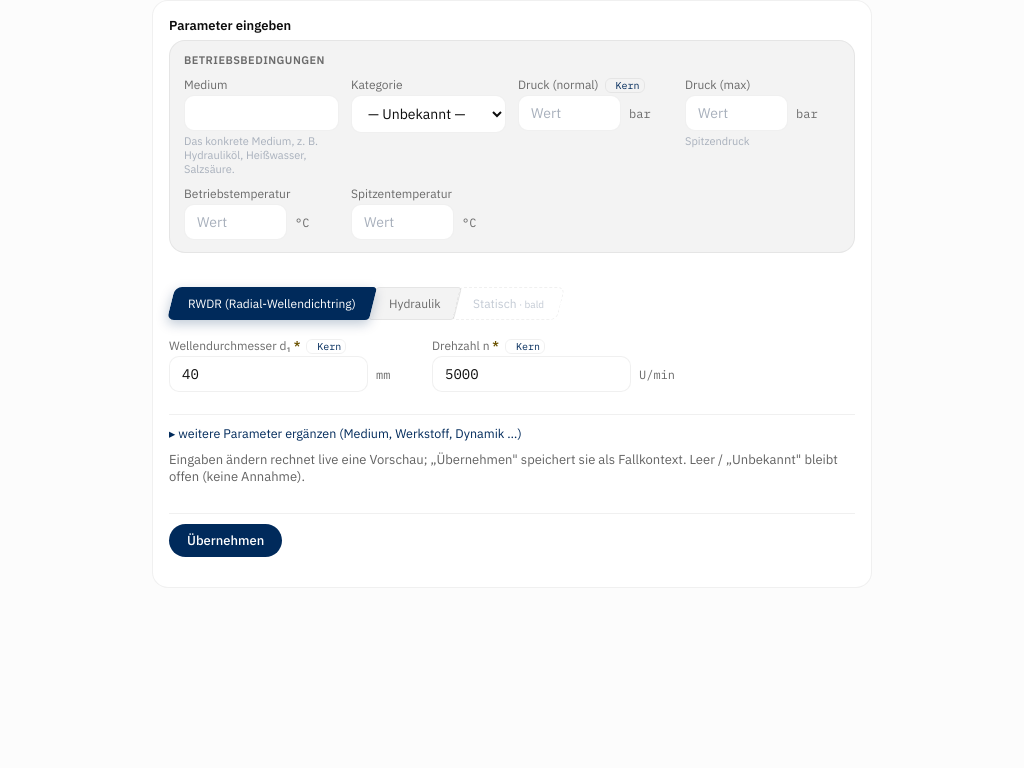
Test: ParameterForm — Modell R2 (hydrate · live preview · adopt, no wipe) › R1: editing makes the form dirty → the Vorschau appears, marked nicht übernommen
Replace the text in the field with test id "param-wellendurchmesser" with "45" at x=268, y=374, box [169, 356, 368, 392]
Wait 400 ms
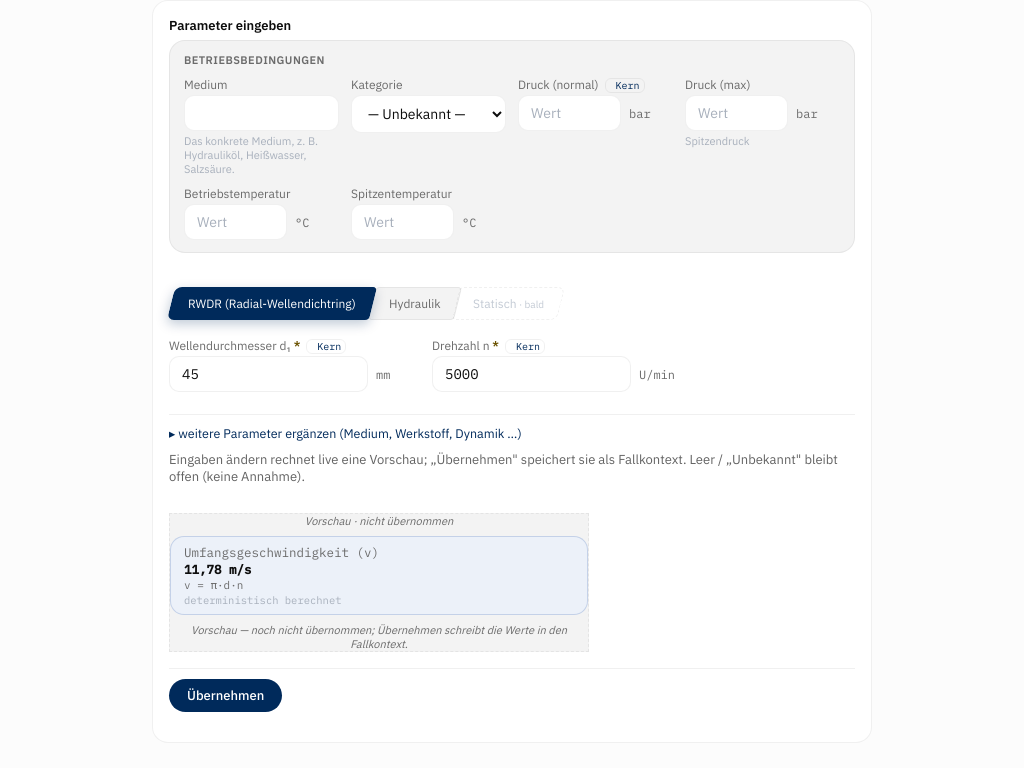
Check: the element with test id "preview-panel" shows "Vorschau · nicht übernommen", box [305, 514, 453, 528]
Check: the element with test id "preview-panel" shows "11,78", box [184, 561, 222, 577]
